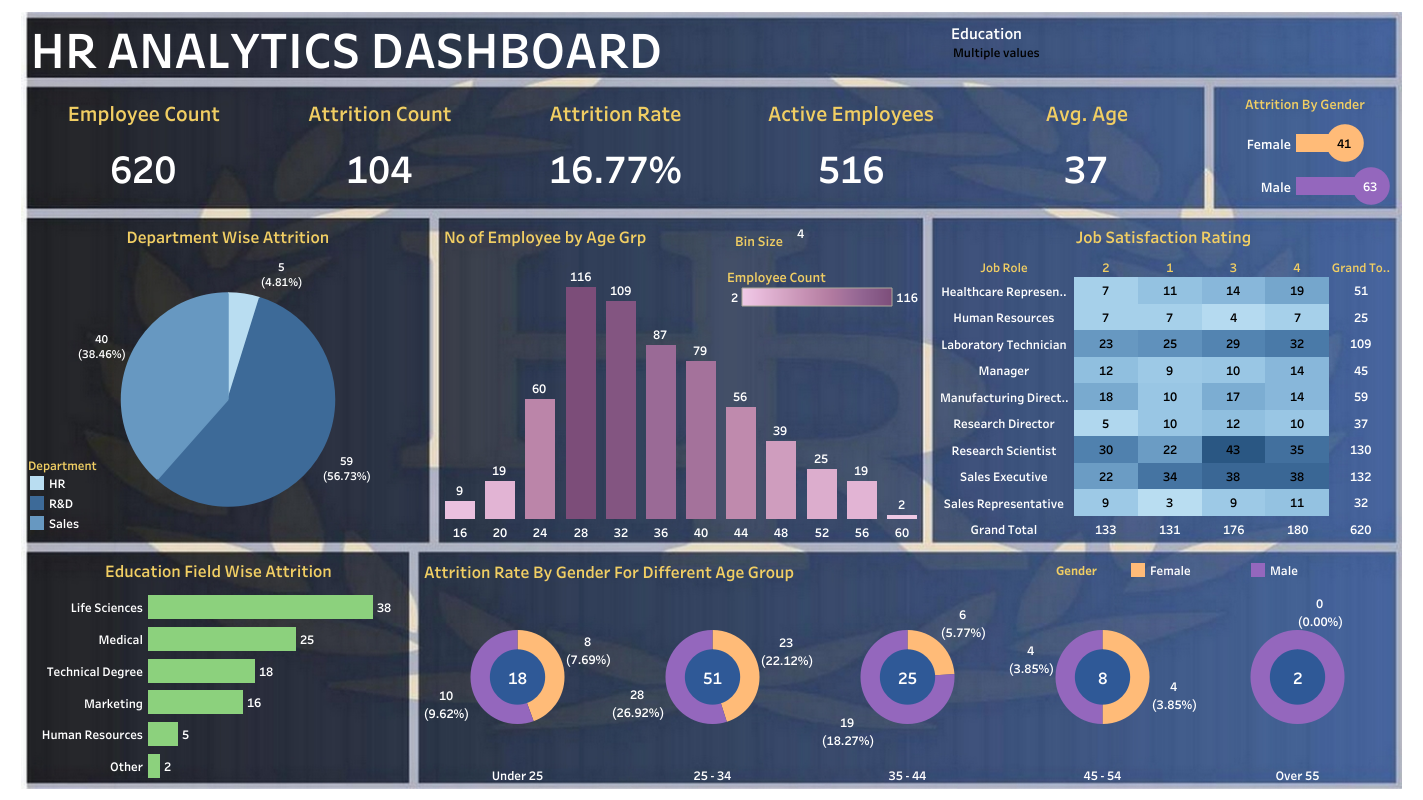

The page's visual inventory and layout, read from the dashboard file:
{"tool":"tableau","page":{"name":"HR ANALYTICS DASHBOARD","canvas":[1424,801],"ordinal":0},"visuals":[{"type":"image","param":"Image/1.jpg","box":[8,8,1408,785]},{"type":"text","box":[28,18,806,59]},{"type":"filter","title":"Department Wise Attrition","param":"[federated.0p73wae0si02lt19pucl81dqmho4].[none:Education:nk]","box":[951,21,196,52]},{"type":"worksheet","title":"KPI","mark":"Automatic","box":[26,87,1179,121]},{"type":"worksheet","title":"Attrition By Gender","mark":"Automatic","rows":["Gender"],"cols":["Calculation_729301712939335680","Calculation_729301712939335680"],"box":[1216,88,178,119]},{"type":"worksheet","title":"Department Wise Attrition","mark":"Pie","box":[27,219,402,323]},{"type":"worksheet","title":"No of Employee by Age Grp","mark":"Automatic","rows":["Employee Count"],"cols":["Age (bin)"],"box":[440,219,482,322]},{"type":"worksheet","title":"Job Satisfaction Rating","mark":"Square","rows":["Job Role"],"cols":["Job Satisfaction"],"box":[934,219,459,323]},{"type":"parameter","param":"[Parameters].[Parameter 1]","box":[723,224,195,33]},{"type":"legend","title":"No of Employee by Age Grp","param":"[federated.0p73wae0si02lt19pucl81dqmho4].[sum:Employee Count:qk]","box":[727,263,196,53]},{"type":"legend","title":"Department Wise Attrition","param":"[federated.0p73wae0si02lt19pucl81dqmho4].[none:Department:nk]","box":[27,454,125,85]},{"type":"worksheet","title":"Education Field Wise Attrition","mark":"Automatic","rows":["Education Field"],"cols":["Calculation_729301712939335680"],"box":[28,553,381,229]},{"type":"worksheet","title":"Attrition Rate By Gender For Different Age Group","mark":"Pie","rows":["Calculation_1326028664371154945","Calculation_1326028664371187715"],"cols":["CF_age band"],"box":[420,554,975,230]},{"type":"legend","title":"Attrition Rate By Gender For Different Age Group","param":"[federated.0p73wae0si02lt19pucl81dqmho4].[none:Gender:nk]","box":[1056,560,334,32]}]}

Visuals, with their boxes in screenshot pixels (x1, y1, x2, y2), scaled from the page's 1424x801 canvas onto the 1423x800 screenshot:
image: pyautogui.locateOnScreen(8, 8, 1415, 792)
text: pyautogui.locateOnScreen(28, 18, 833, 77)
"Department Wise Attrition" filter: pyautogui.locateOnScreen(950, 21, 1146, 73)
"KPI" worksheet: pyautogui.locateOnScreen(26, 87, 1204, 208)
"Attrition By Gender" worksheet: pyautogui.locateOnScreen(1215, 88, 1393, 207)
"Department Wise Attrition" worksheet (Pie marks): pyautogui.locateOnScreen(27, 219, 429, 541)
"No of Employee by Age Grp" worksheet: pyautogui.locateOnScreen(440, 219, 921, 540)
"Job Satisfaction Rating" worksheet (Square marks): pyautogui.locateOnScreen(933, 219, 1392, 541)
parameter: pyautogui.locateOnScreen(722, 224, 917, 257)
"No of Employee by Age Grp" legend: pyautogui.locateOnScreen(726, 263, 922, 316)
"Department Wise Attrition" legend: pyautogui.locateOnScreen(27, 453, 152, 538)
"Education Field Wise Attrition" worksheet: pyautogui.locateOnScreen(28, 552, 409, 781)
"Attrition Rate By Gender For Different Age Group" worksheet (Pie marks): pyautogui.locateOnScreen(420, 553, 1394, 783)
"Attrition Rate By Gender For Different Age Group" legend: pyautogui.locateOnScreen(1055, 559, 1389, 591)
